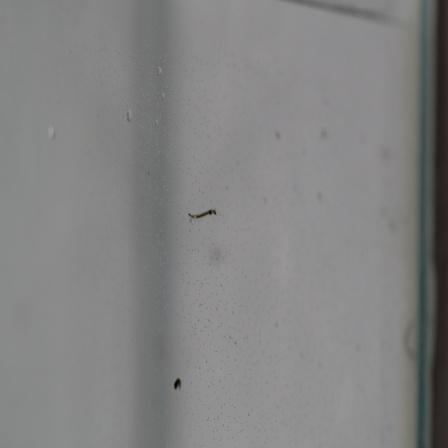Jentik-Nyamuk: (184, 205, 222, 228), (168, 372, 187, 397)
